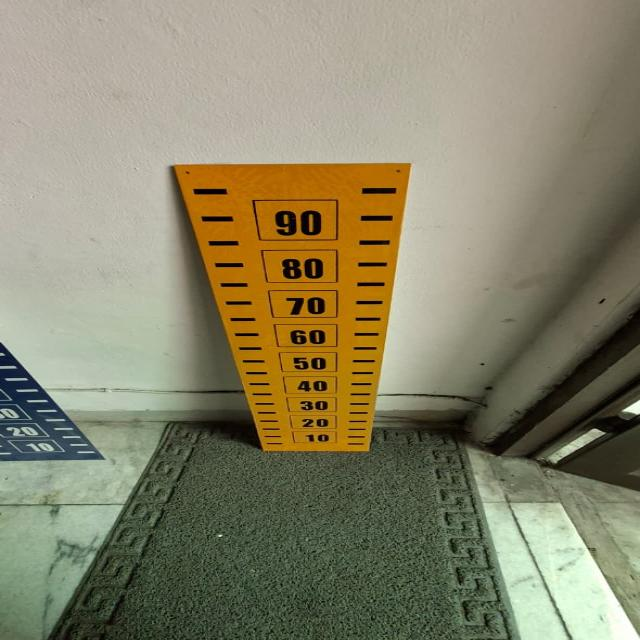water-meter: (139, 149, 460, 465)
